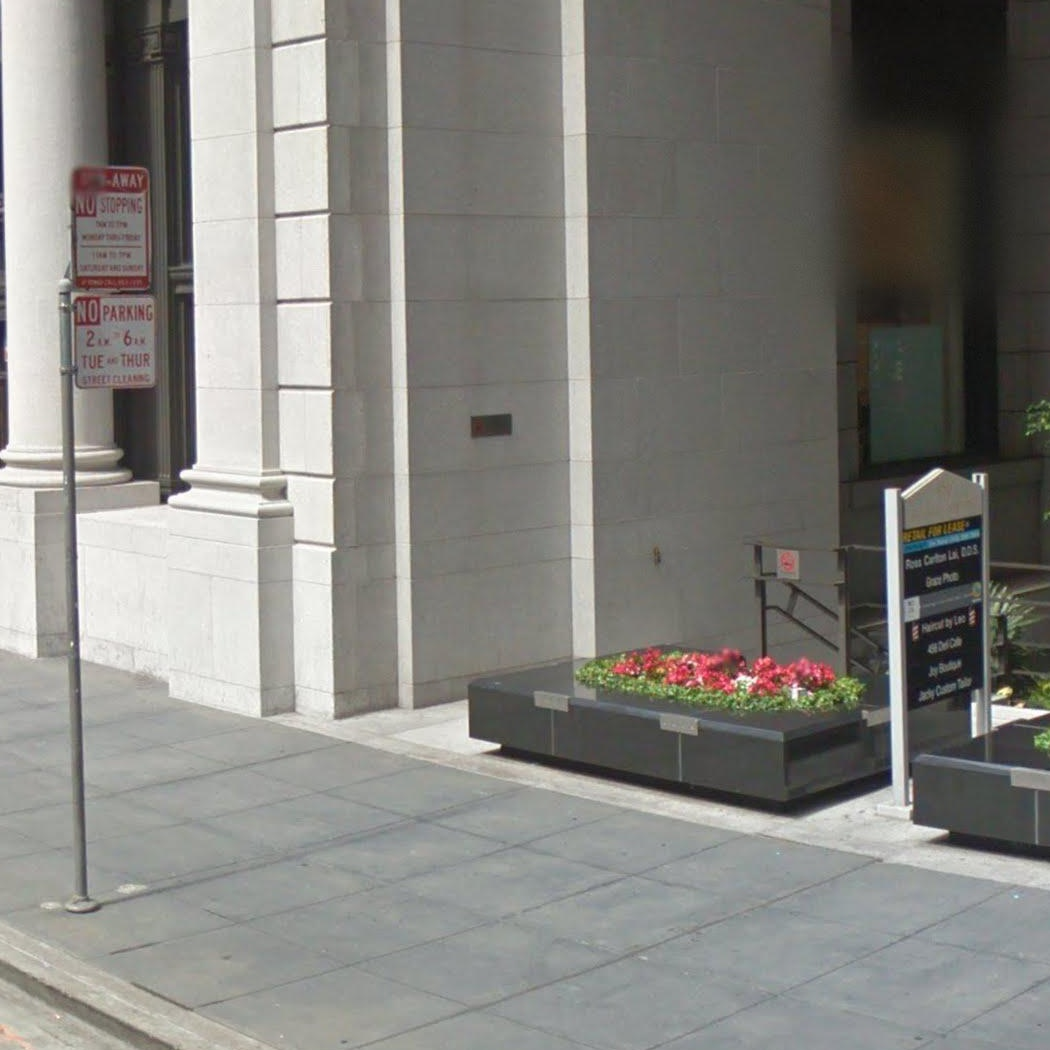No Parking: (68, 163, 154, 292), (70, 289, 160, 394)
